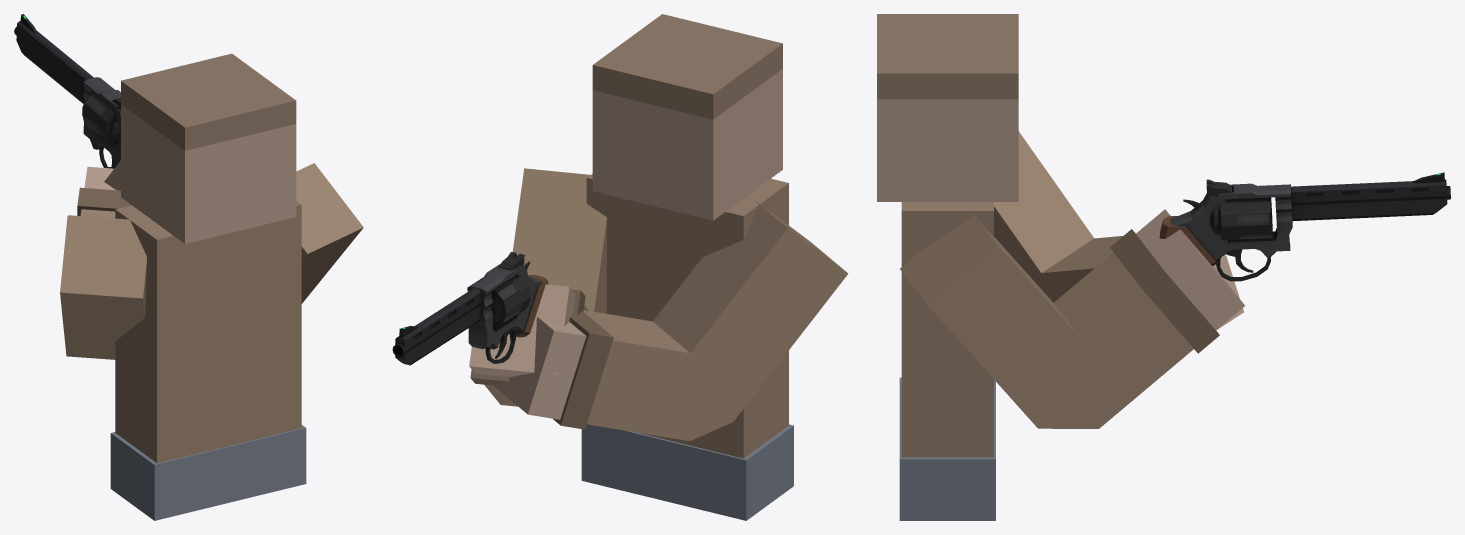
Rendered from Revolver.gltf.
The picture shows the model from 3 angles, left to right: view 1: azimuth 30°, elevation 25°; view 2: azimuth 150°, elevation 25°; view 3: azimuth 270°, elevation 25°; orthographic projection. The views are drawn at different scales.
Size of the model in its own units: 5.3 by 6.8 by 8.11.
Materials: 2 (1 with a texture image).
